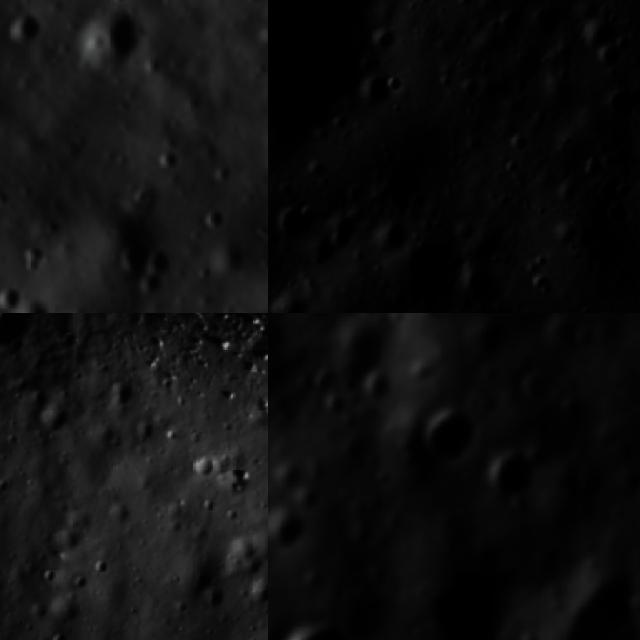crater: (268, 0, 413, 171), (86, 207, 199, 313), (410, 538, 526, 640), (55, 0, 162, 92), (391, 213, 486, 308), (535, 559, 640, 640), (367, 140, 449, 224), (329, 313, 405, 389), (415, 398, 488, 470), (268, 181, 329, 248), (448, 248, 511, 312), (0, 0, 60, 64), (346, 60, 408, 121), (486, 437, 538, 502), (268, 606, 367, 640), (589, 69, 640, 132), (570, 0, 626, 57), (368, 204, 423, 260), (586, 23, 639, 78), (292, 94, 344, 146), (483, 0, 539, 45), (362, 12, 412, 62), (540, 313, 599, 355), (464, 314, 508, 368), (595, 184, 640, 233), (546, 166, 592, 212), (0, 313, 42, 363), (268, 506, 310, 555), (27, 398, 72, 443), (268, 275, 321, 313), (524, 0, 573, 41), (0, 284, 69, 313), (512, 367, 558, 409), (500, 120, 542, 163), (568, 212, 609, 254), (572, 143, 613, 184), (360, 363, 398, 402), (336, 172, 372, 209), (604, 171, 640, 208), (574, 460, 610, 496), (276, 453, 310, 489), (558, 388, 591, 422), (0, 276, 30, 313), (484, 294, 540, 313), (108, 380, 135, 418), (188, 456, 220, 485), (321, 388, 350, 420), (245, 577, 268, 617), (293, 362, 318, 393), (203, 586, 227, 618), (300, 480, 326, 508), (558, 480, 582, 505), (91, 554, 112, 581), (140, 424, 162, 448), (412, 313, 452, 325), (72, 578, 90, 600), (268, 364, 276, 411), (42, 567, 55, 591), (45, 631, 74, 640), (0, 479, 11, 500)
